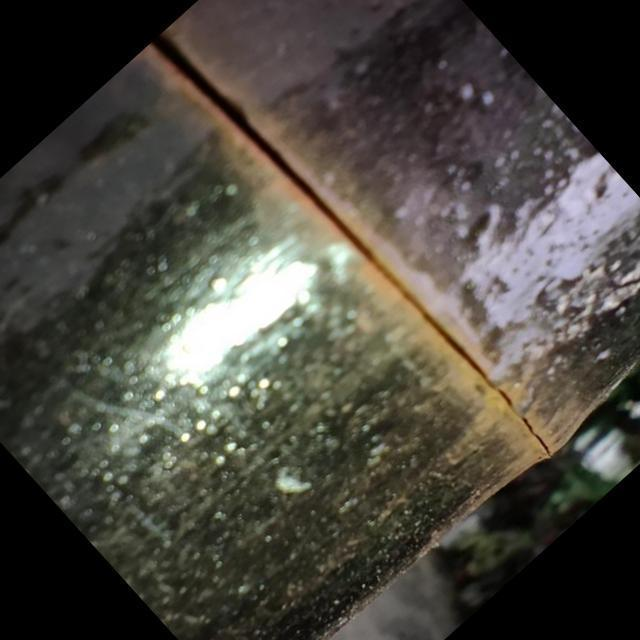defect: (144, 30, 553, 462)
